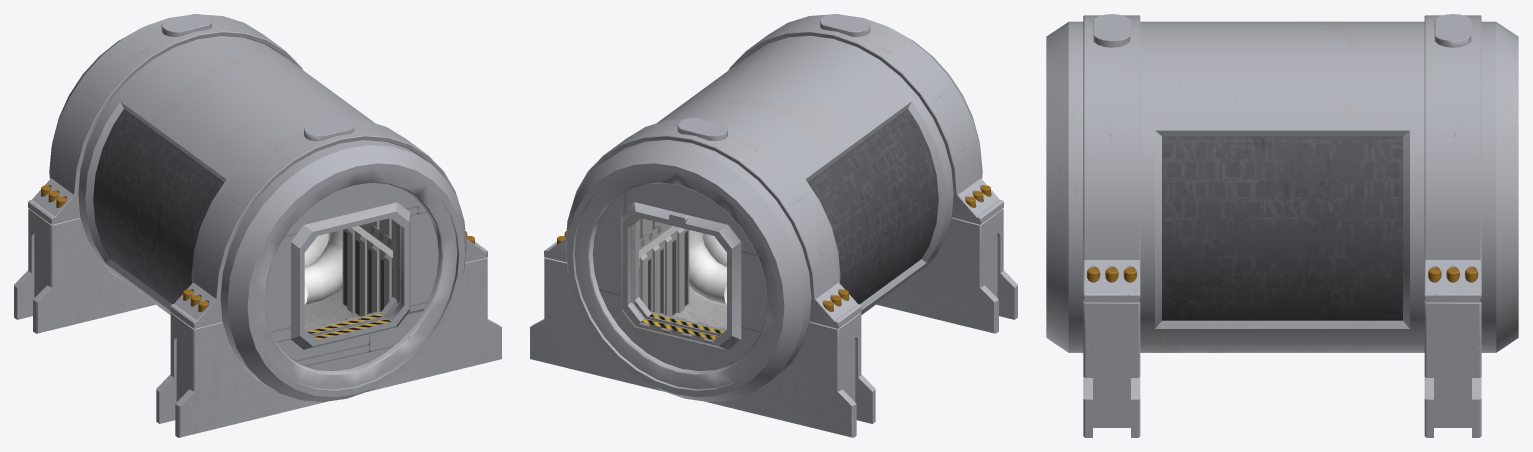
The picture shows the model from 3 angles, left to right: view 1: azimuth 30°, elevation 25°; view 2: azimuth 150°, elevation 25°; view 3: azimuth 270°, elevation 25°; orthographic projection. The views are drawn at different scales.
Visible parts, largest first — view 1: Tube; view 2: Tube; view 3: Tube.
Boxes of the visible parts, x1,y1,x2,y2 form: Tube: (14, 14, 501, 437); Tube: (530, 14, 1017, 437); Tube: (1046, 14, 1518, 437).
Size of the model in its own units: 13.52 by 14.25 by 10.52.
